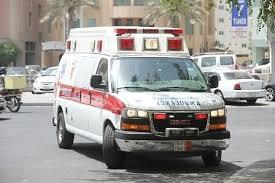ambulance_off: (52, 26, 232, 169)
